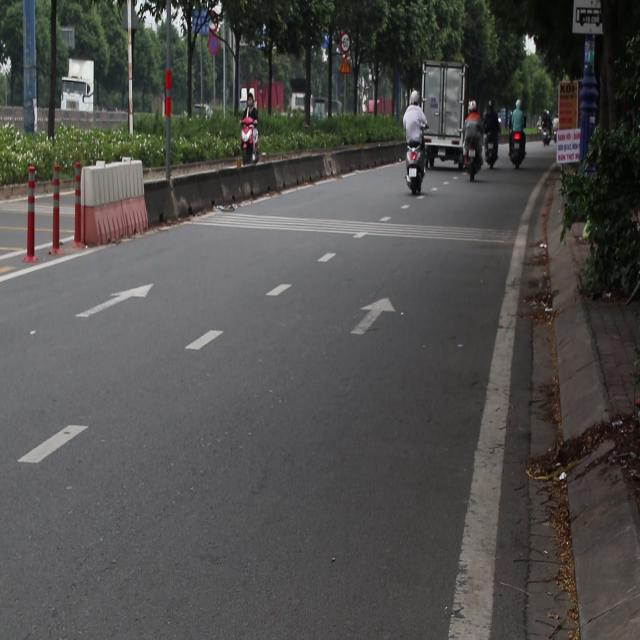car: (185, 91, 221, 132)
motorbike: (404, 138, 428, 197), (234, 122, 262, 171), (461, 132, 476, 179), (486, 126, 499, 180), (540, 115, 555, 147), (510, 134, 525, 165)
truck: (408, 48, 475, 168), (57, 58, 128, 142)
